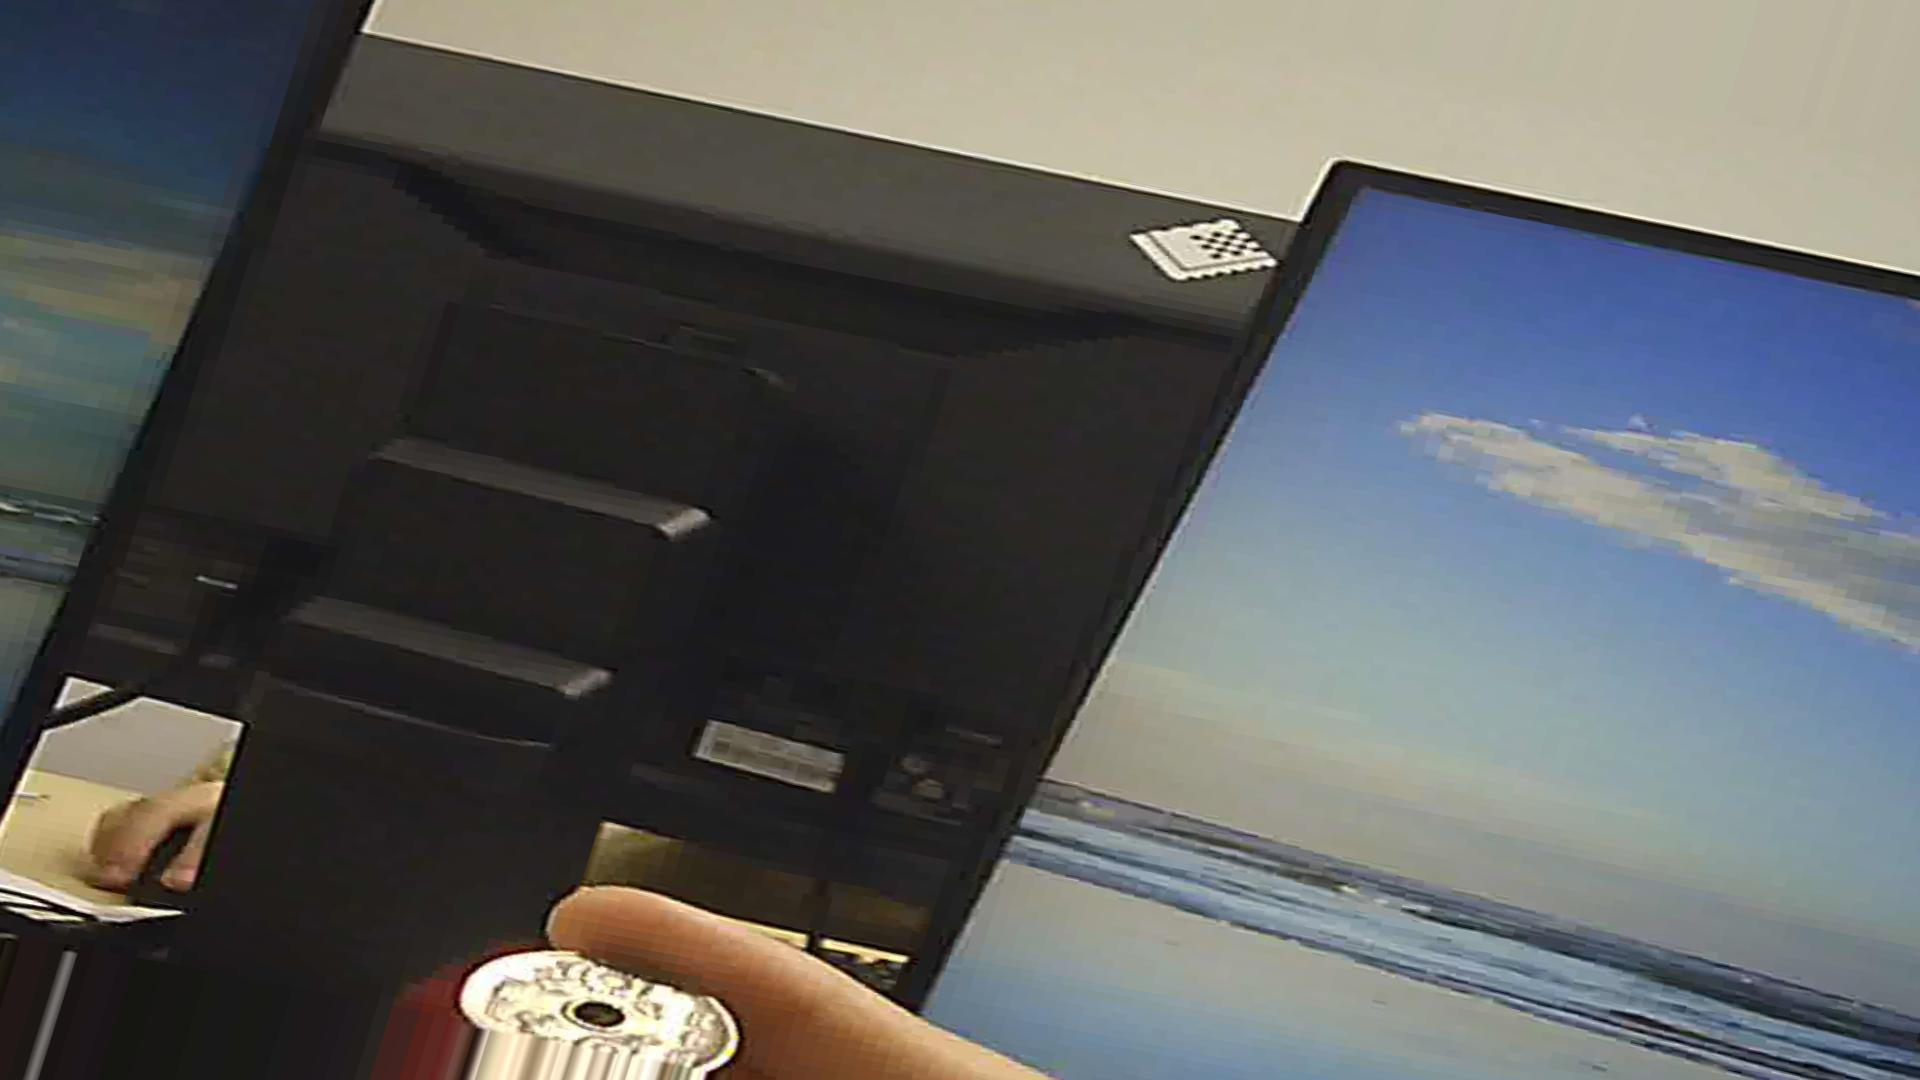50 Yen: (422, 938, 758, 1071)
